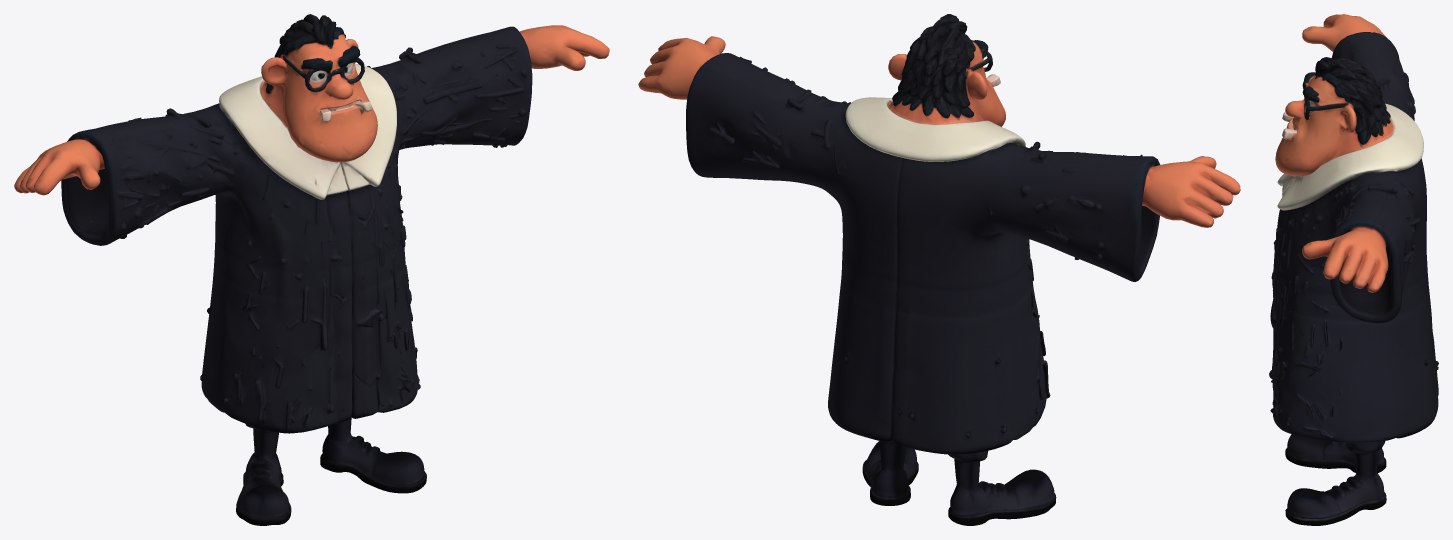
Rendered from judge_vrask.glb.
3 views of the same model, side by side, from view 1: azimuth 30°, elevation 25°; view 2: azimuth 150°, elevation 25°; view 3: azimuth 270°, elevation 25° (orthographic). The views are drawn at different scales.
Parts seen in each view (by area): view 1: judge_vrask; view 2: judge_vrask; view 3: judge_vrask.
Boxes of the visible parts, bbox=[...] form: judge_vrask: bbox=[14, 14, 609, 525]; judge_vrask: bbox=[638, 14, 1240, 525]; judge_vrask: bbox=[1269, 14, 1438, 525].
Bounding box in the file's own units: 2.8 × 2.2 × 0.7875.
Materials: 1 (1 with a texture image).
